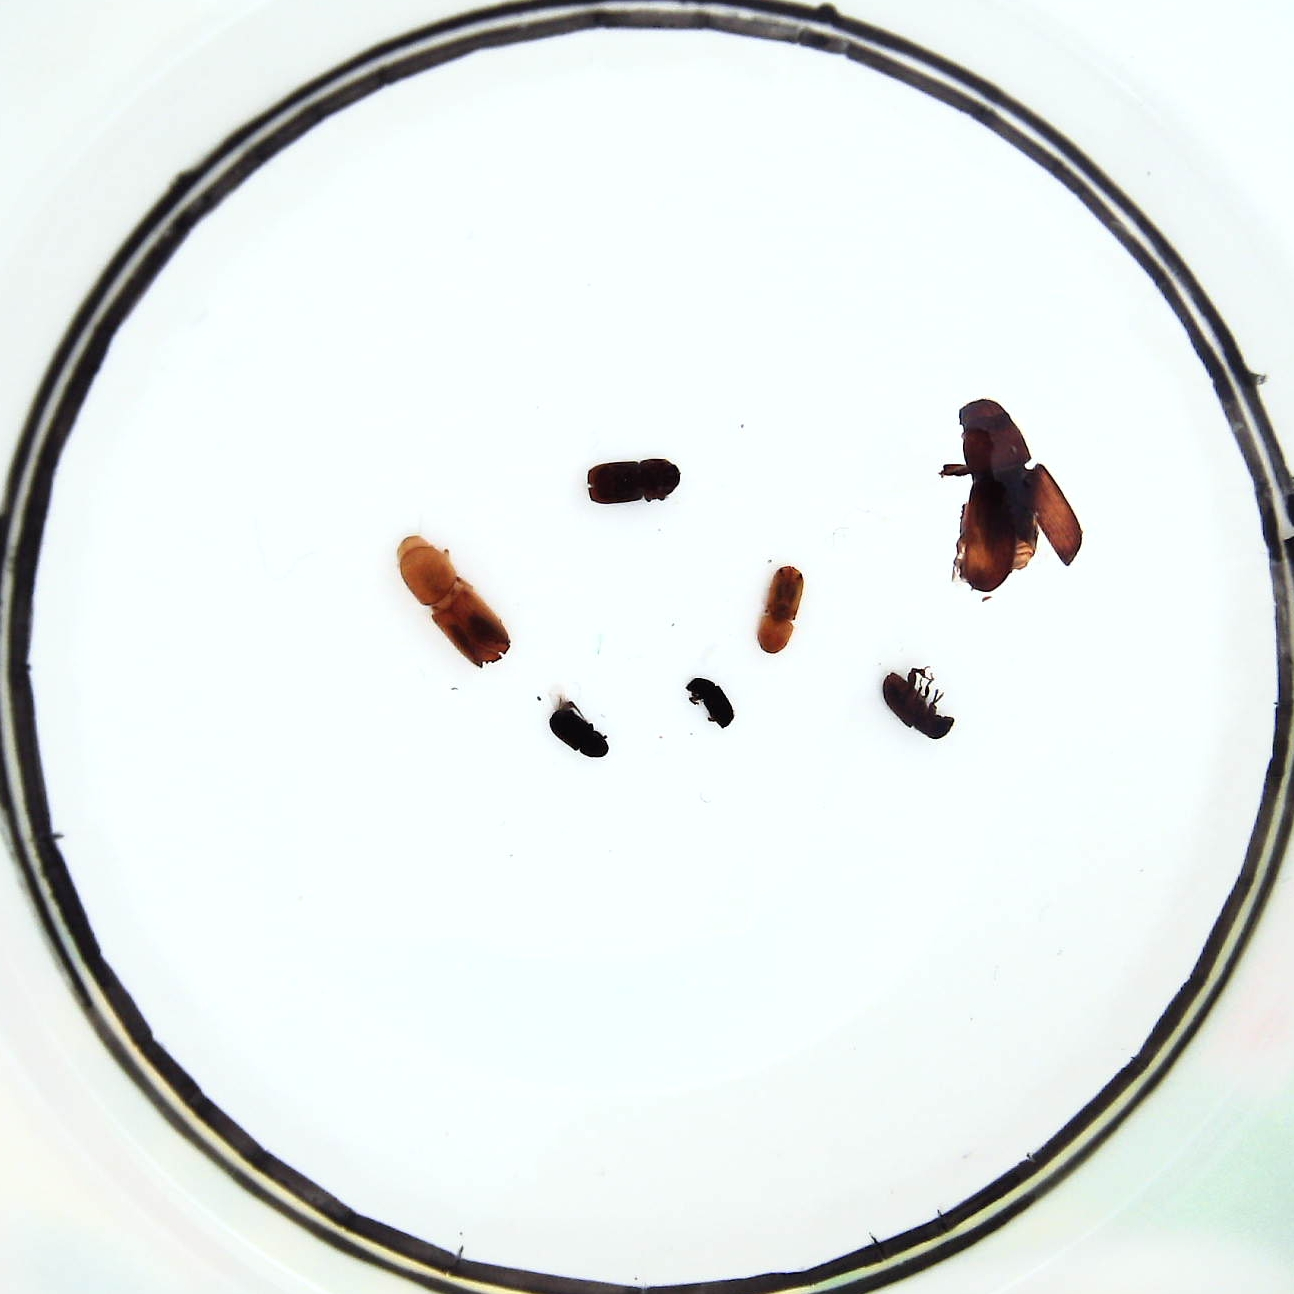Boerner: (392, 534, 513, 670)
Leconte: (950, 399, 1085, 592)
Linnaeus: (585, 459, 679, 505)
acuminatus: (758, 565, 802, 656)
armandi: (880, 664, 955, 747)
coleoptera: (547, 699, 610, 762), (685, 675, 735, 732)
